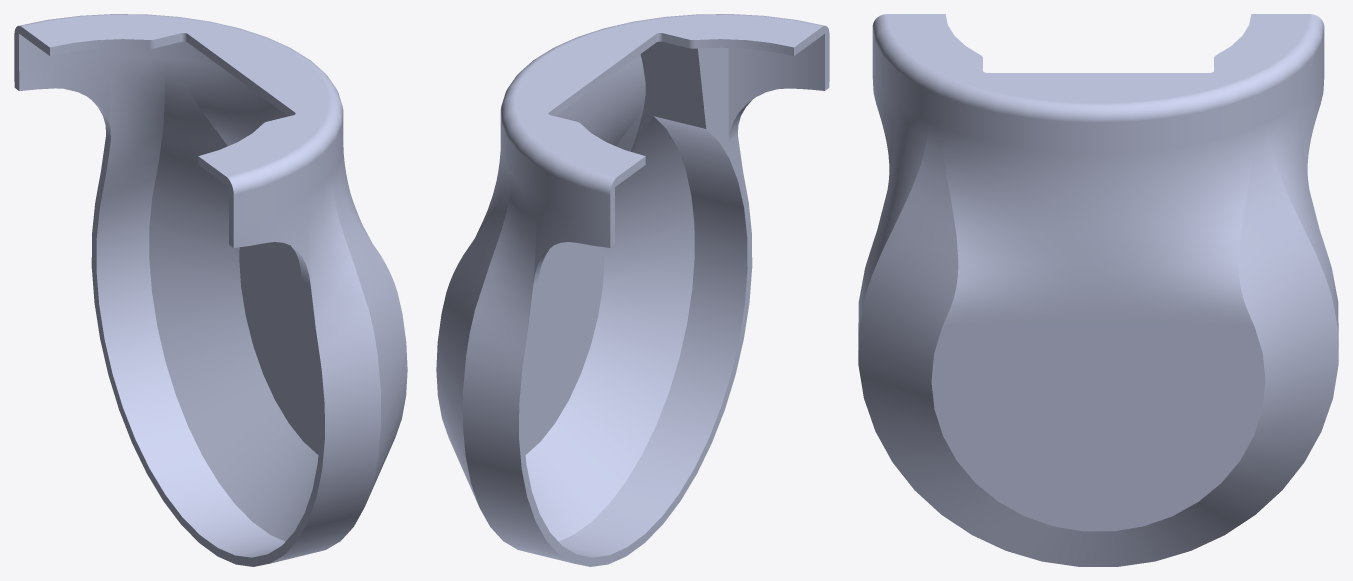
3 views of the same model, side by side, from view 1: azimuth 30°, elevation 25°; view 2: azimuth 150°, elevation 25°; view 3: azimuth 270°, elevation 25° (orthographic). The views are drawn at different scales.
Parts seen in each view (by area): view 1: Body1; view 2: Body1; view 3: Body1.
Part boxes in pixels (bbox=[...]): Body1: bbox=[14, 14, 407, 566]; Body1: bbox=[436, 14, 829, 566]; Body1: bbox=[858, 14, 1338, 566].
Size of the model in its own units: 0.049 by 0.1083 by 0.0978.
